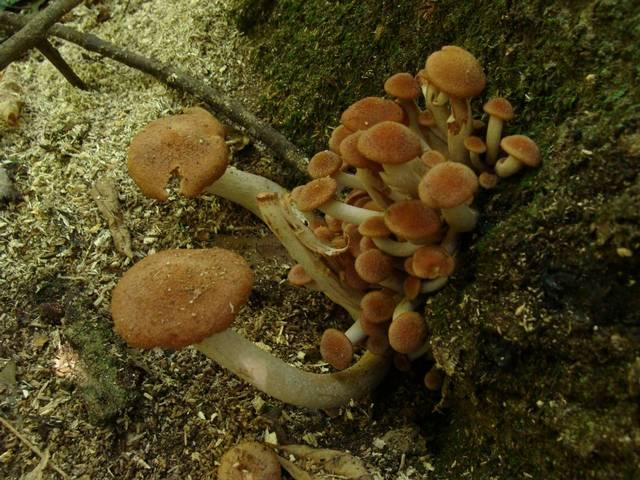Edible Mushroom: (113, 43, 541, 409)
